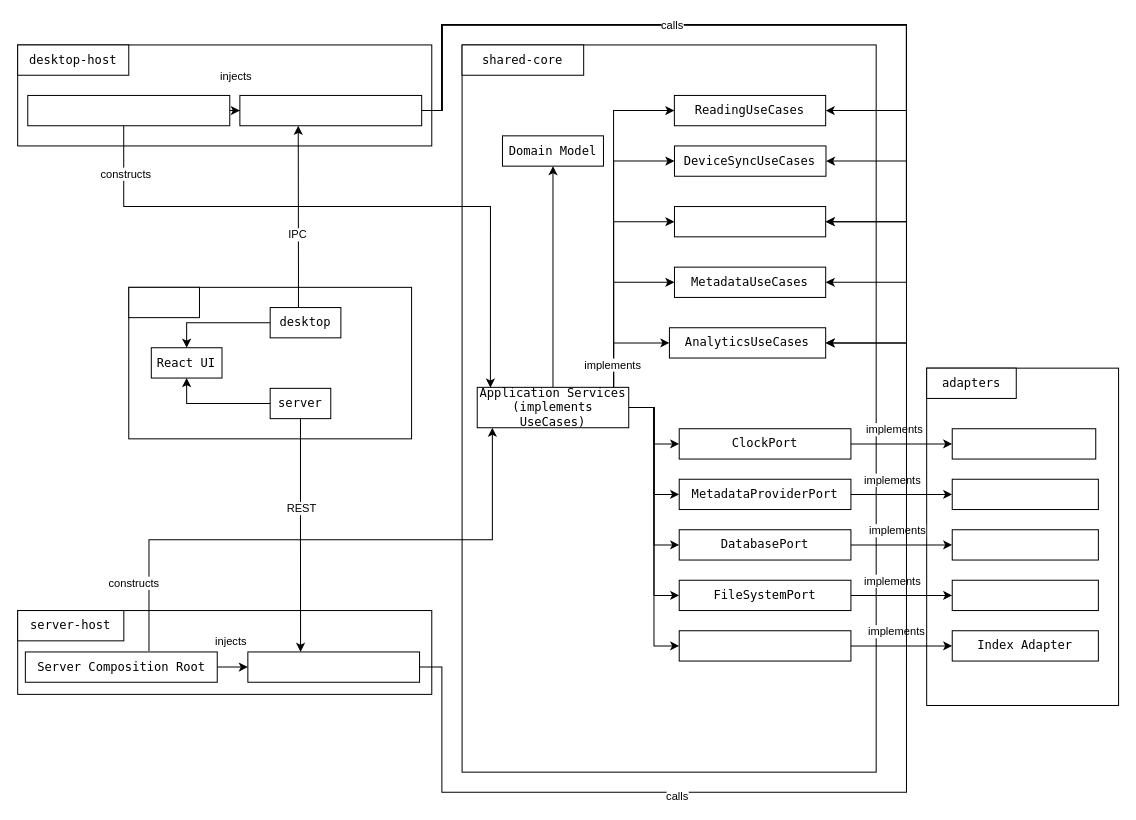
This 1136x820 diagram has some shape labels left out. The shapes that lost their labels are listed below. From the top down, each one's centre as x and y in pixels, then its label:
At pixel 128 110: "Desktop Composition Root".
At pixel 330 110: "Tauri Inbound Adapter".
At pixel 749 221: "CatalogUseCases".
At pixel 163 302: "frontend".
At pixel 1023 443: "Clock Adapter".
At pixel 1024 494: "Metadata Adapter".
At pixel 1024 544: "DB Adapter".
At pixel 1024 595: "FS Adapter".
At pixel 764 645: "SearchIndexPort".
At pixel 333 666: "HTTP Inbound Adapter".
